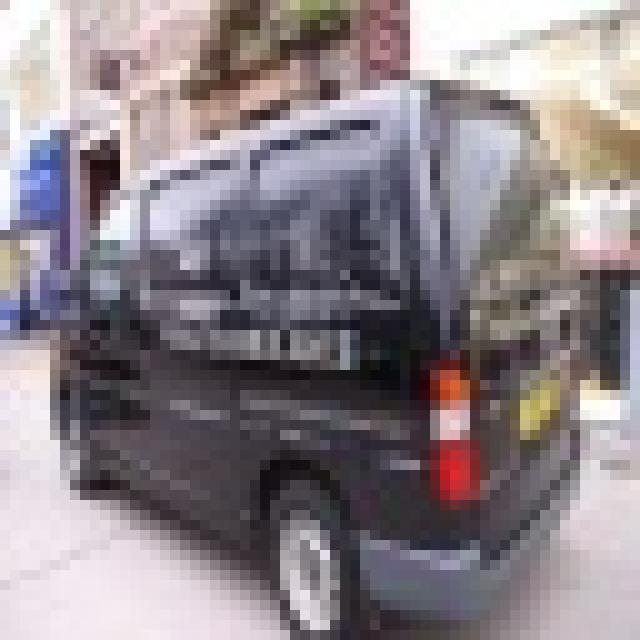Ambulance: (40, 70, 590, 630)
